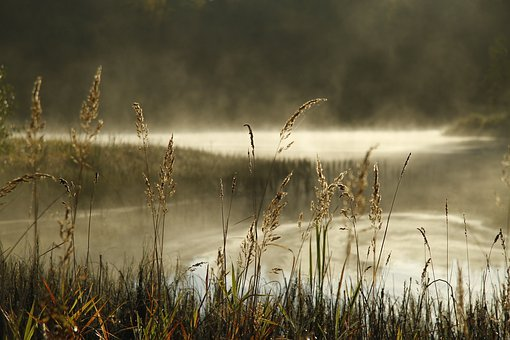forest: (13, 15, 510, 334)
